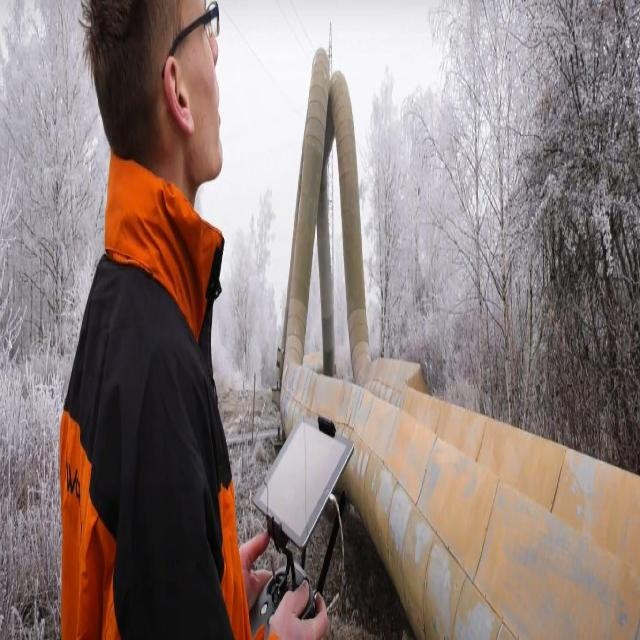gas: (280, 54, 640, 639), (330, 74, 640, 571), (317, 184, 334, 374)
